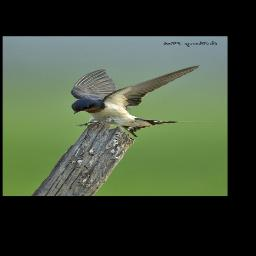Swallow: (70, 64, 215, 136)
